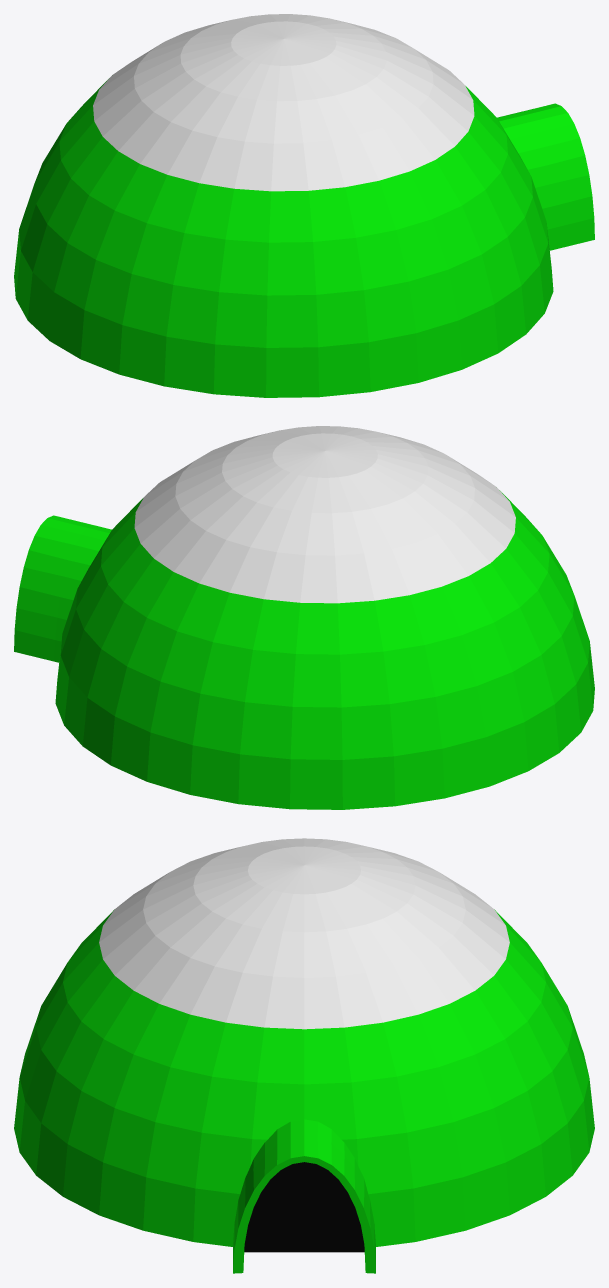
Rendered from Tunnel.fbx.
The picture shows the model from 3 angles, top to bottom: view 1: azimuth 30°, elevation 25°; view 2: azimuth 150°, elevation 25°; view 3: azimuth 270°, elevation 25°; orthographic projection. The views are drawn at different scales.
Visible parts, largest first — view 1: Sphere; view 2: Sphere; view 3: Sphere.
Part boxes in pixels (x1=…): Sphere: x1=14, y1=14, x2=594, y2=397; Sphere: x1=14, y1=426, x2=594, y2=809; Sphere: x1=14, y1=838, x2=594, y2=1273.
Bounding box in the file's own units: 219 × 100 × 200.
